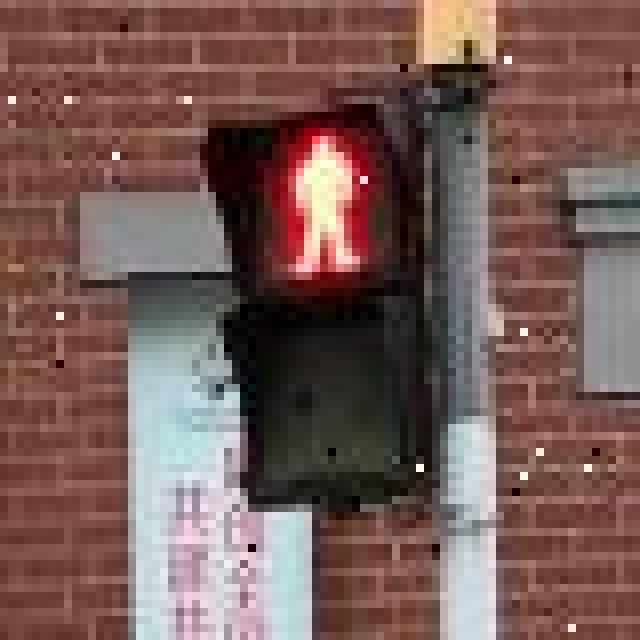redlight: (200, 64, 440, 512)
